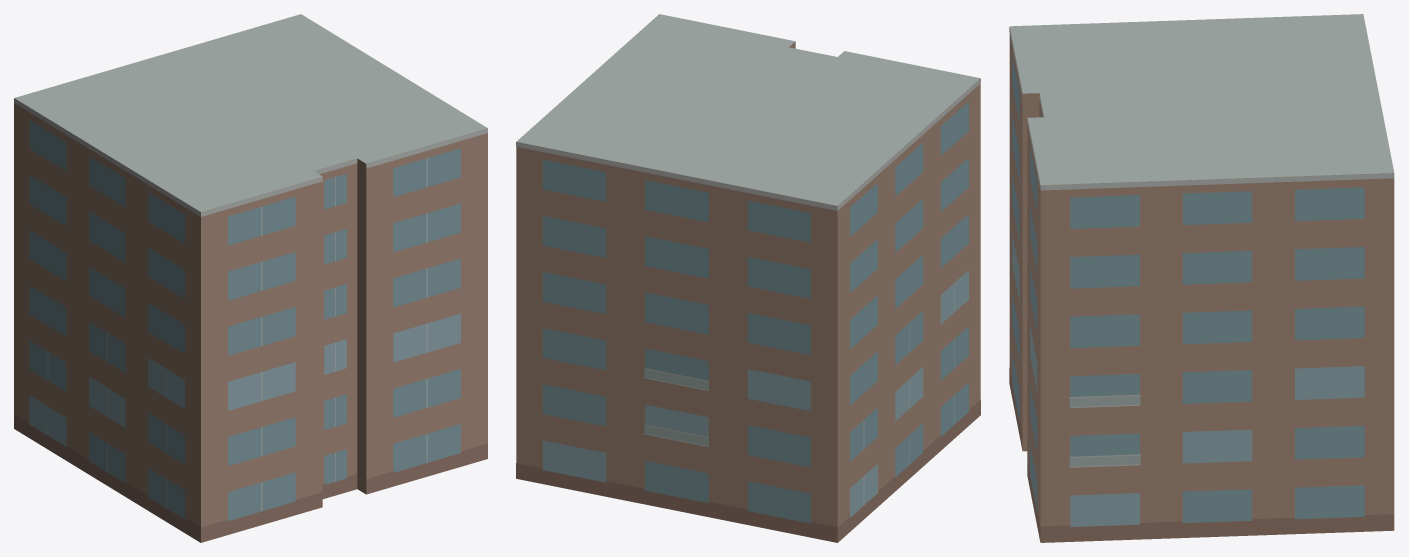
The model's file is survey-upis-32758372.glb.
3 renders of one model, left to right at view 1: azimuth 30°, elevation 25°; view 2: azimuth 150°, elevation 25°; view 3: azimuth 270°, elevation 25°, orthographic. The views are drawn at different scales.
Visible parts, largest first — view 1: survey-upis-32758372.tmp; view 2: survey-upis-32758372.tmp; view 3: survey-upis-32758372.tmp.
Boxes of the visible parts, x1,y1,x2,y2 form: survey-upis-32758372.tmp: (14, 14, 487, 542); survey-upis-32758372.tmp: (516, 14, 980, 542); survey-upis-32758372.tmp: (1009, 14, 1394, 542).
Size of the model in its own units: 16.95 by 16.5 by 16.1.
